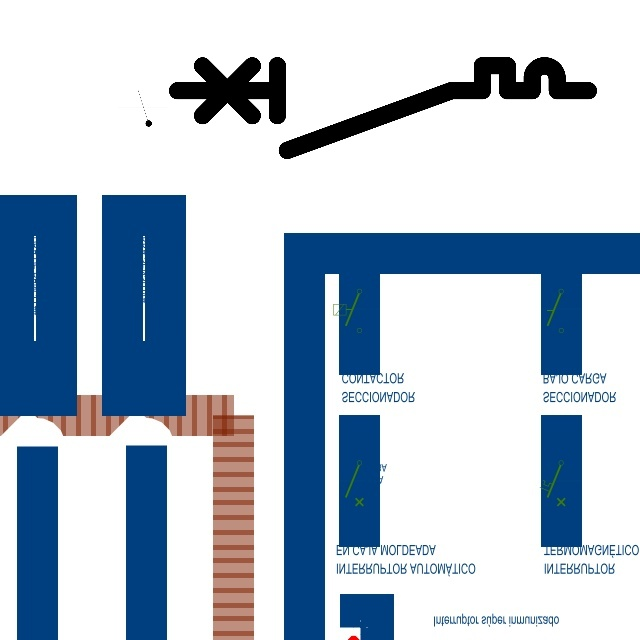interruptor_termomagnetico: (166, 55, 598, 161)
